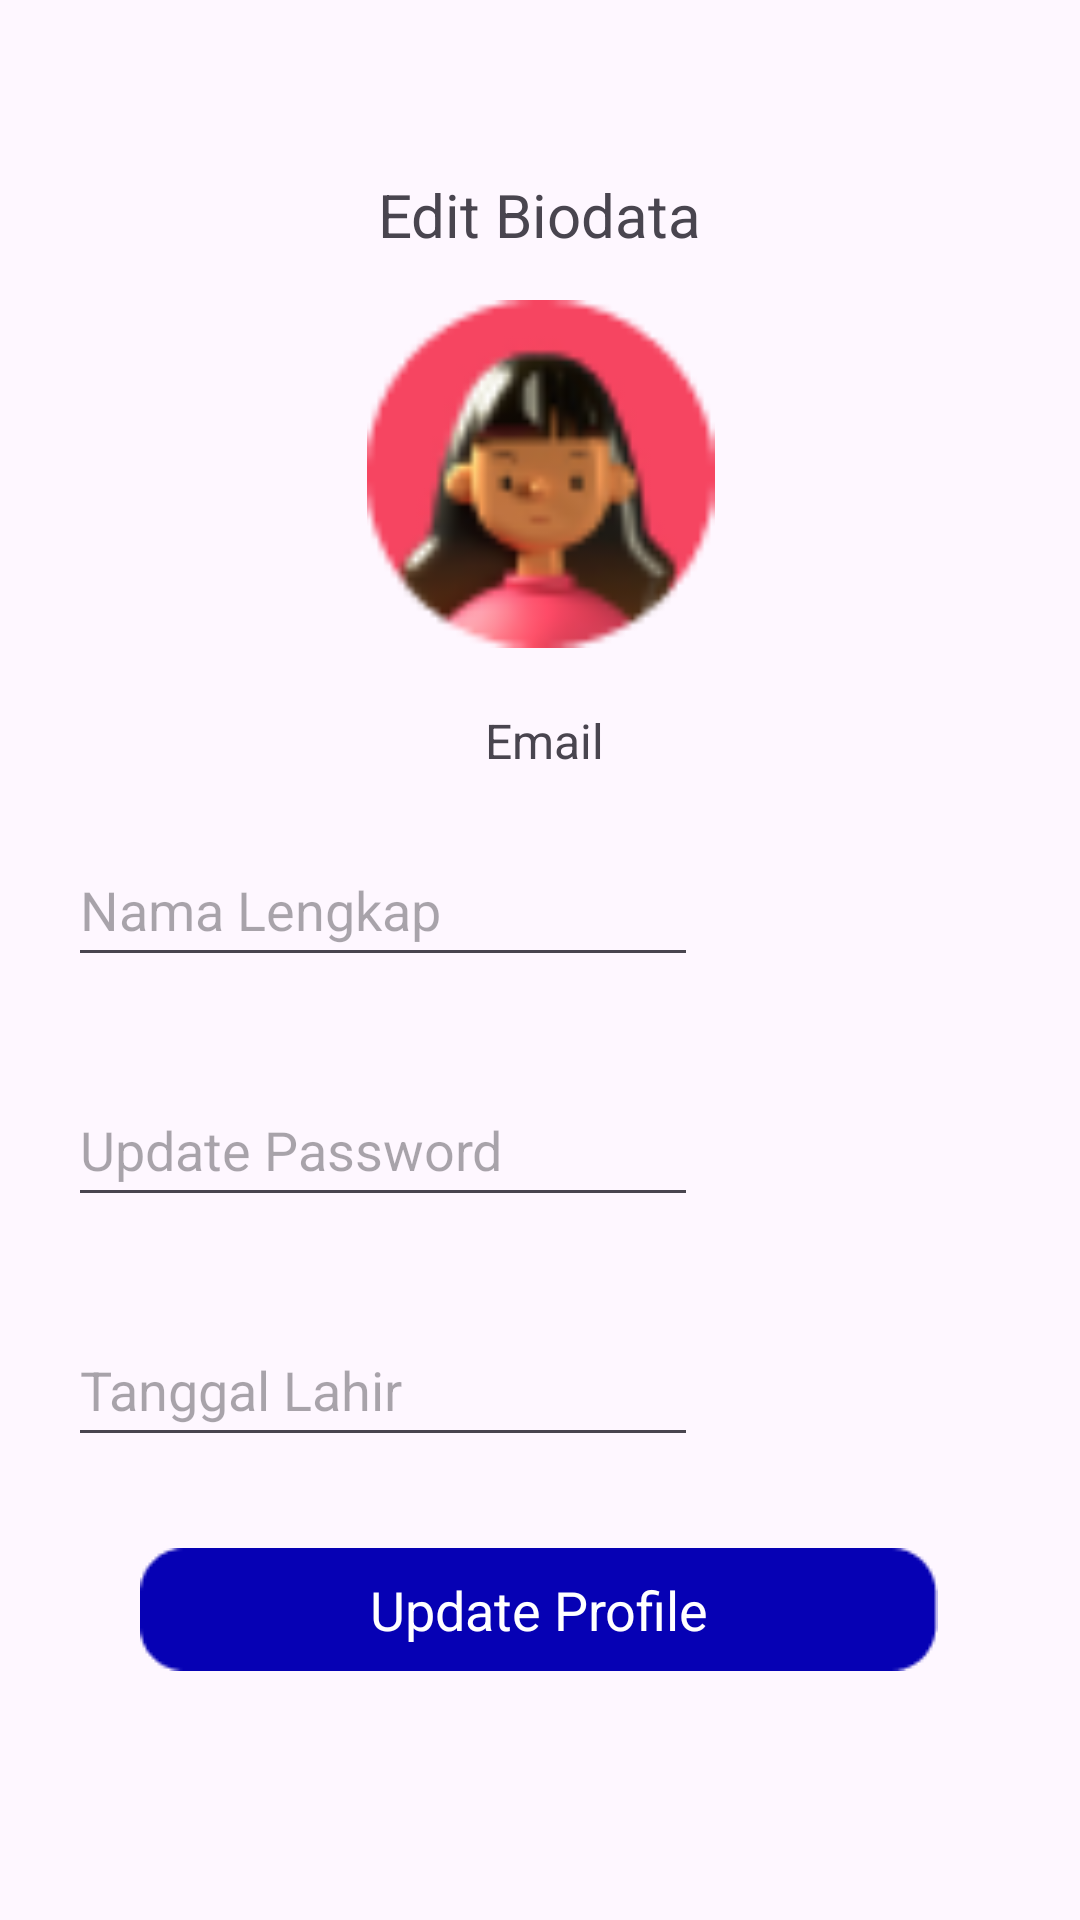

Screen size 1080px×1920px. Icon name, then its box in pixels as detection(x1, y1, x2, y2):
user: detection(367, 300, 715, 648)
